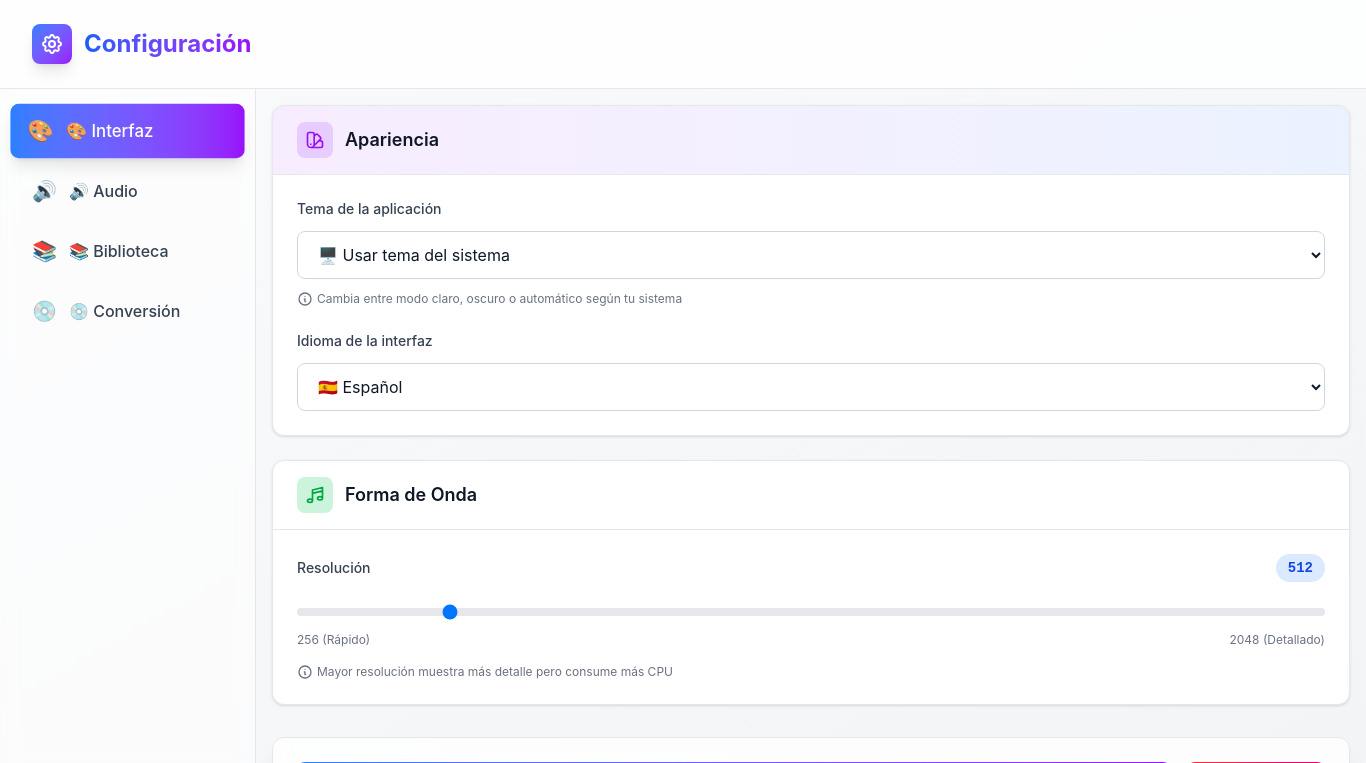
Test case: Settings › Pestaña Conversión › debería mostrar input de carpeta de salida
Click the text "💿 Conversión" at (125, 311), box [69,299,180,323]
(page scrolled)
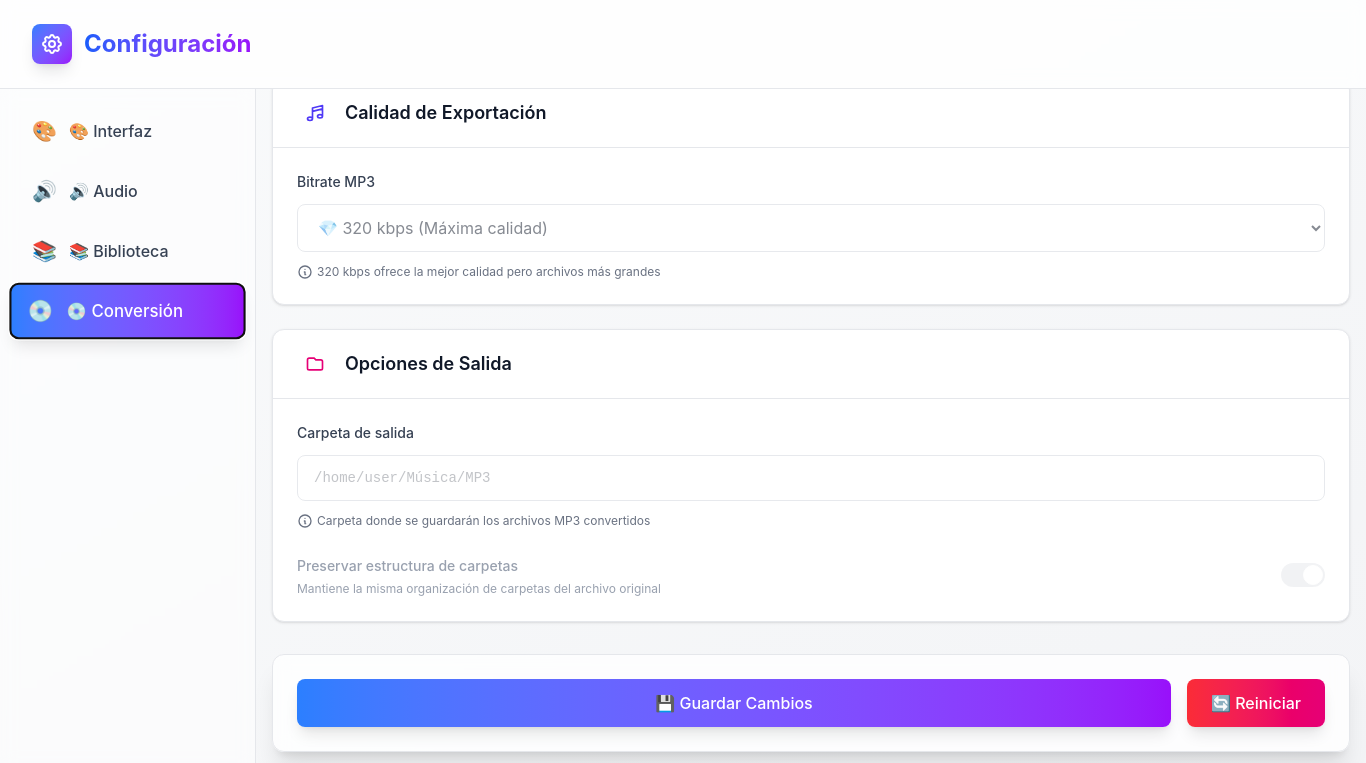
Now the field labelled "Carpeta de salida" is shown, box [297,455,1325,501]
